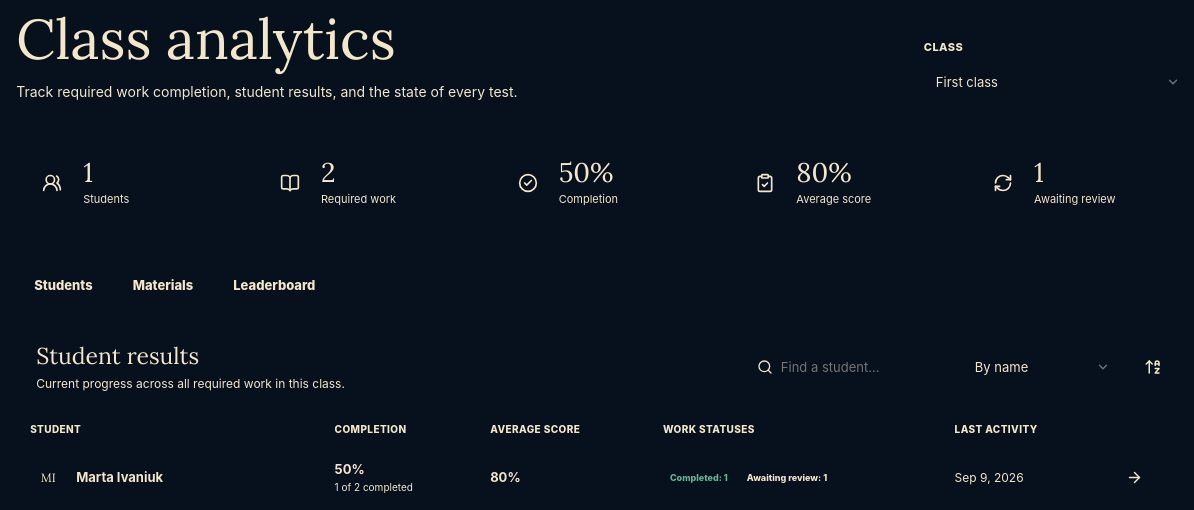
Test: Teacher analytics pages › searches students and shows the no-result state
In the search field named "Search students": point(850, 367) [745,346,955,388], type "missing"
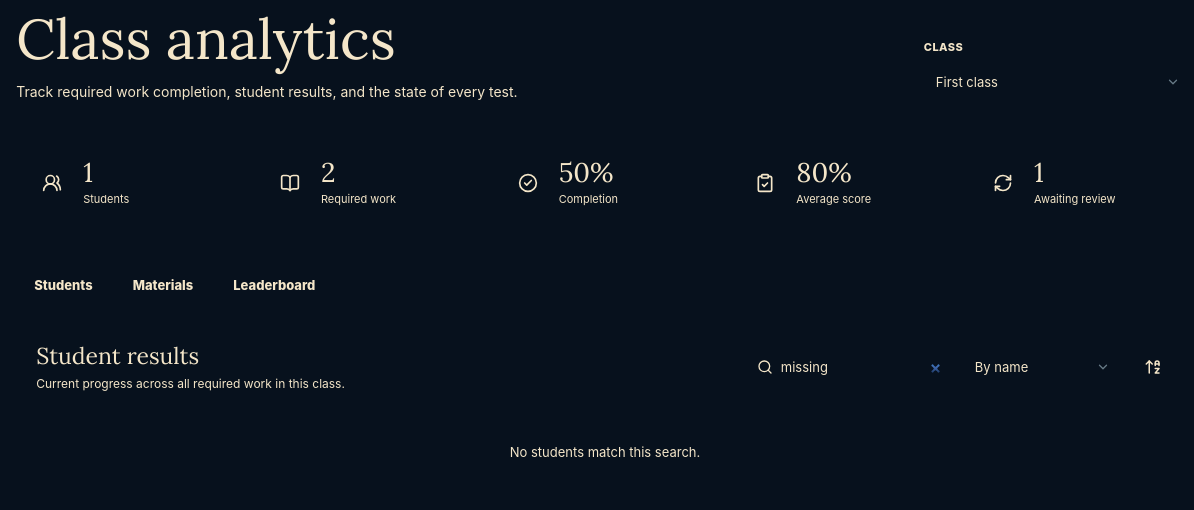
Now the text "No students match this search." is shown, box [510,444,700,460]
